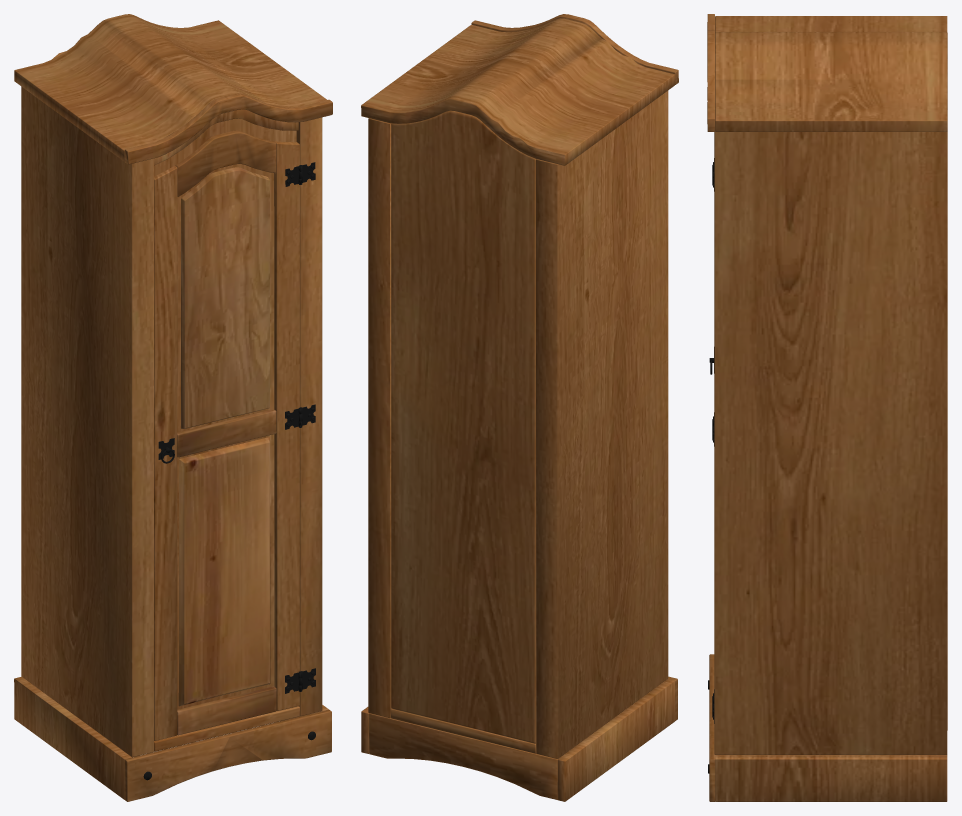
3 views of the same model, side by side, from view 1: azimuth 30°, elevation 25°; view 2: azimuth 150°, elevation 25°; view 3: azimuth 270°, elevation 25° (orthographic). The views are drawn at different scales.
Parts seen in each view (by area): view 1: B07B3X7977; view 2: B07B3X7977; view 3: B07B3X7977.
Part boxes in pixels (x1,y1,x2,y2): B07B3X7977: [14, 14, 332, 801]; B07B3X7977: [361, 14, 678, 801]; B07B3X7977: [707, 14, 947, 801].
Bounding box in the file's own units: 0.5897 × 1.87 × 0.5701.
Materials: 1 (1 with a texture image).
